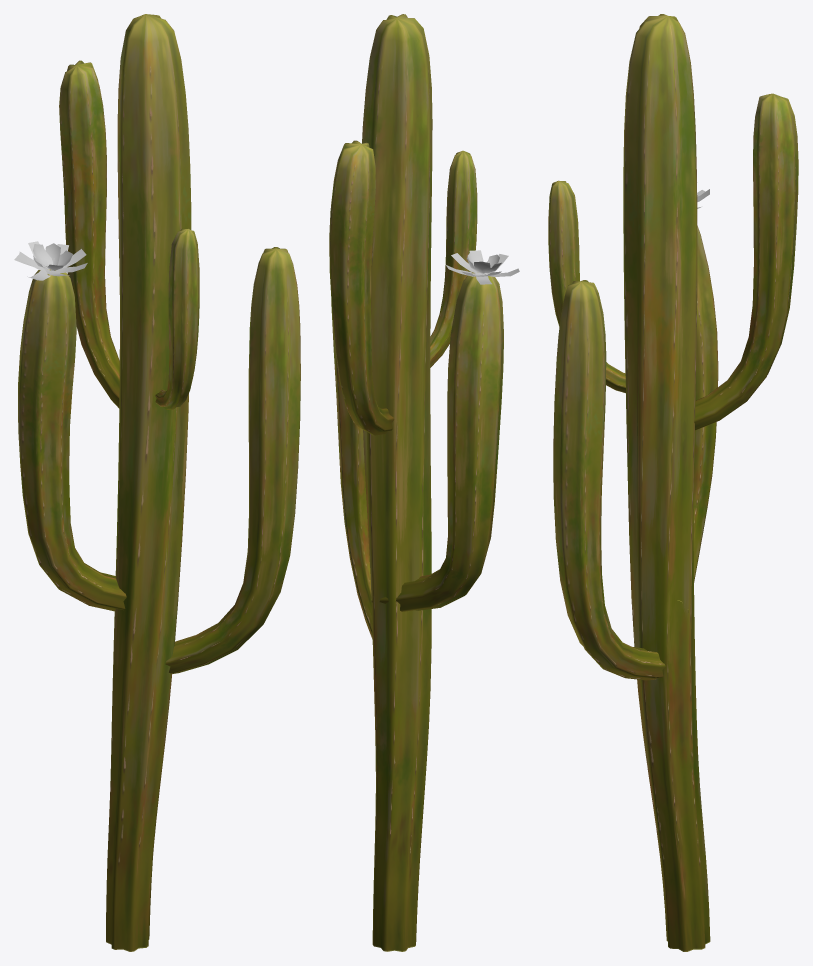
File: SM_Cactus06.fbx
3 views of the same model, side by side, from view 1: azimuth 30°, elevation 25°; view 2: azimuth 150°, elevation 25°; view 3: azimuth 270°, elevation 25° (orthographic).
Visible parts, largest first — view 1: SM_Cactus06; view 2: SM_Cactus06; view 3: SM_Cactus06.
Boxes of the visible parts, box(x1,y1,x2,y2) form: SM_Cactus06: box(14, 14, 300, 951); SM_Cactus06: box(329, 14, 519, 951); SM_Cactus06: box(548, 14, 798, 951).
Bounding box in the file's own units: 287 × 1109 × 270.
